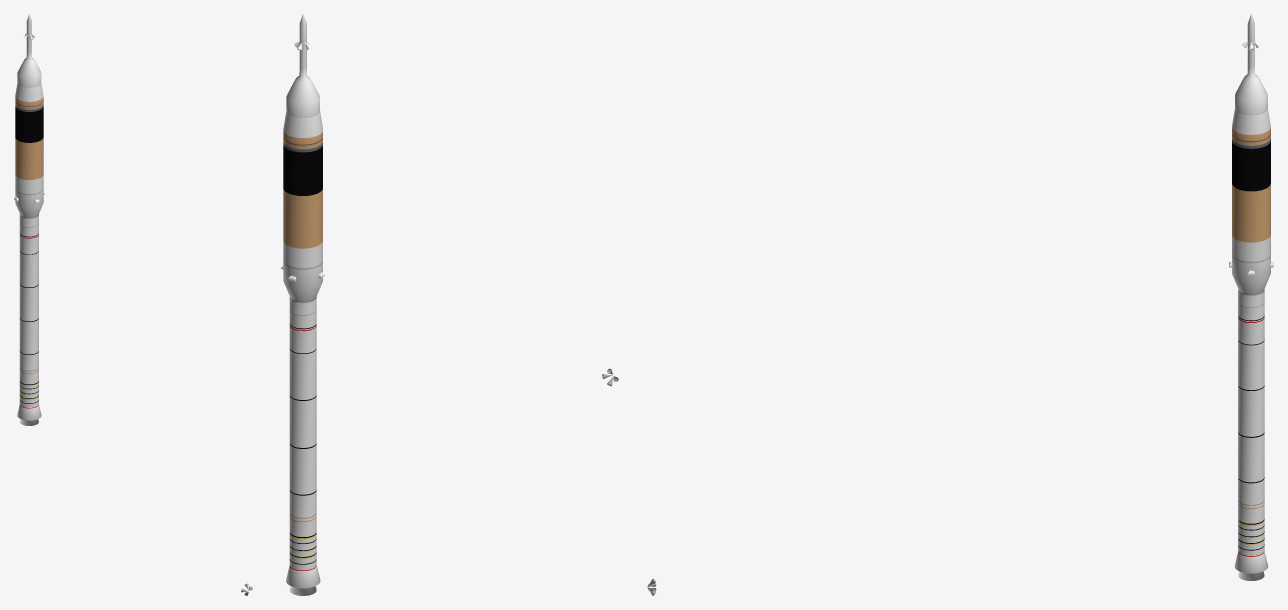
The model's file is ares-1-b.glb.
The picture shows the model from 3 angles, left to right: view 1: azimuth 30°, elevation 25°; view 2: azimuth 150°, elevation 25°; view 3: azimuth 270°, elevation 25°; orthographic projection. The views are drawn at different scales.
Visible parts, largest first — view 1: group2 pCo; view 2: group2 pCo; view 3: group2 pCo.
Part boxes in pixels (bbox=[...]): group2 pCo: bbox=[14, 14, 252, 595]; group2 pCo: bbox=[281, 14, 618, 595]; group2 pCo: bbox=[647, 14, 1273, 595].
Size of the model in its own units: 0.6976 by 10.01 by 9.77.
Materials: 1 (1 with a texture image).
